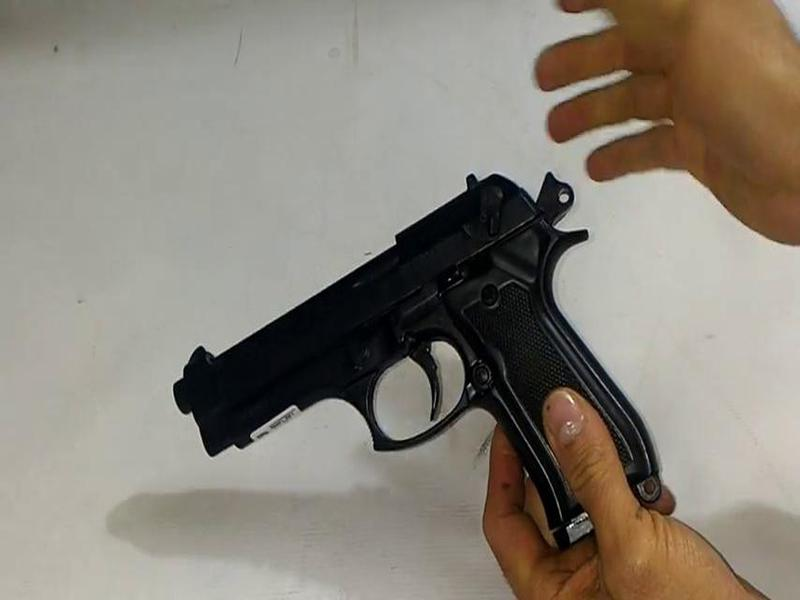Pistola: (164, 130, 719, 600)
